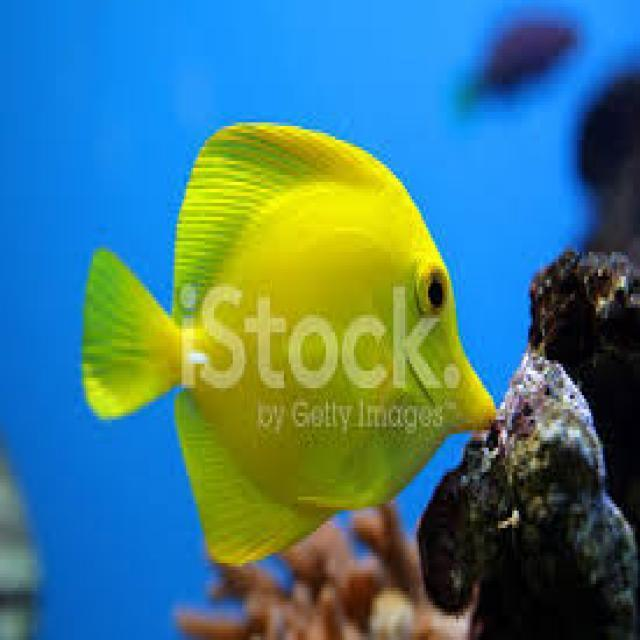TangFish: (79, 115, 500, 568)
